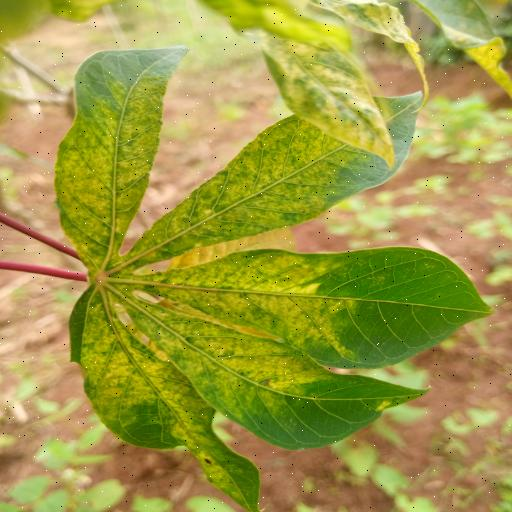Cassava_Mosaic: (52, 41, 493, 512)
